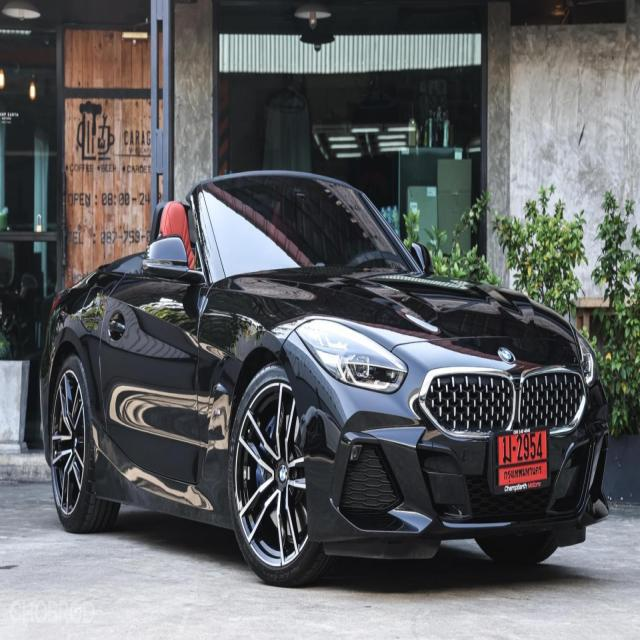license_plate: (482, 423, 557, 502)
